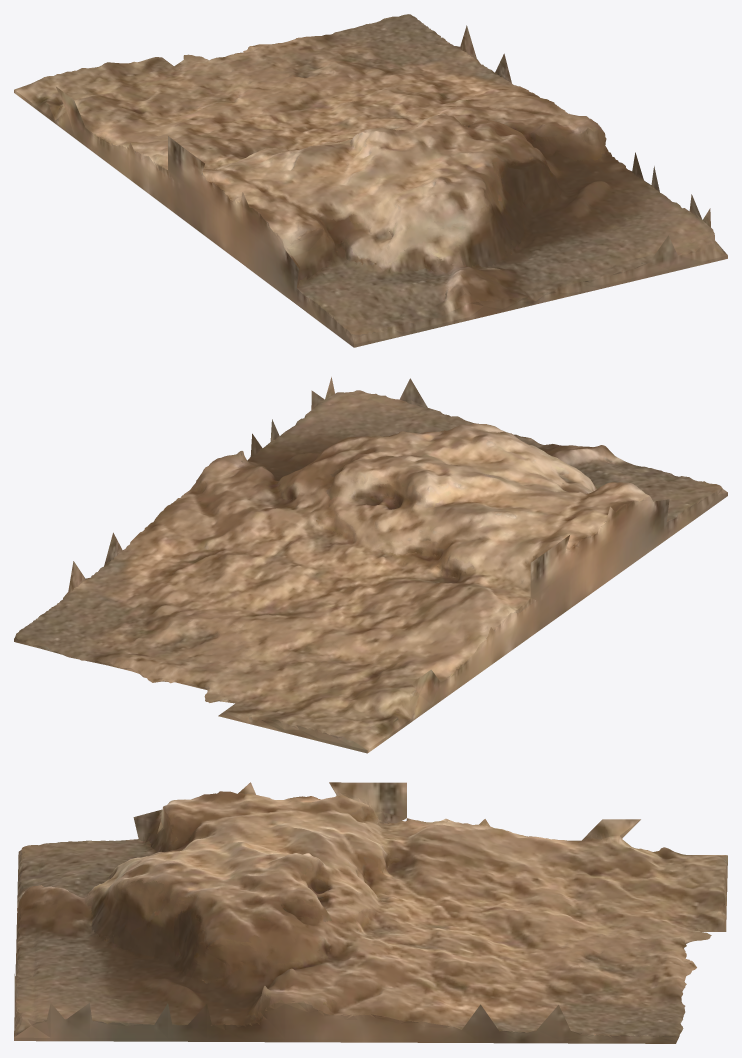
Rendered from mars-rock.glb.
The picture shows the model from 3 angles, top to bottom: view 1: azimuth 30°, elevation 25°; view 2: azimuth 150°, elevation 25°; view 3: azimuth 270°, elevation 25°; orthographic projection. The views are drawn at different scales.
Bounding box in the file's own units: 30.35 × 6.1 × 48.54.
Materials: 1 (1 with a texture image).
